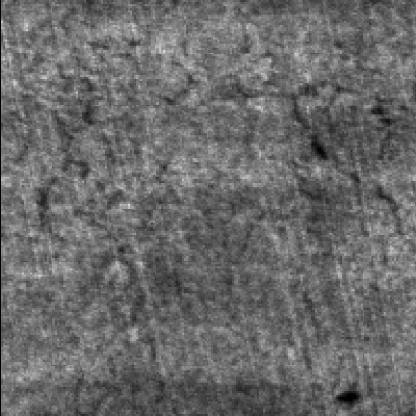crazing: (37, 70, 172, 408), (288, 71, 410, 256)
